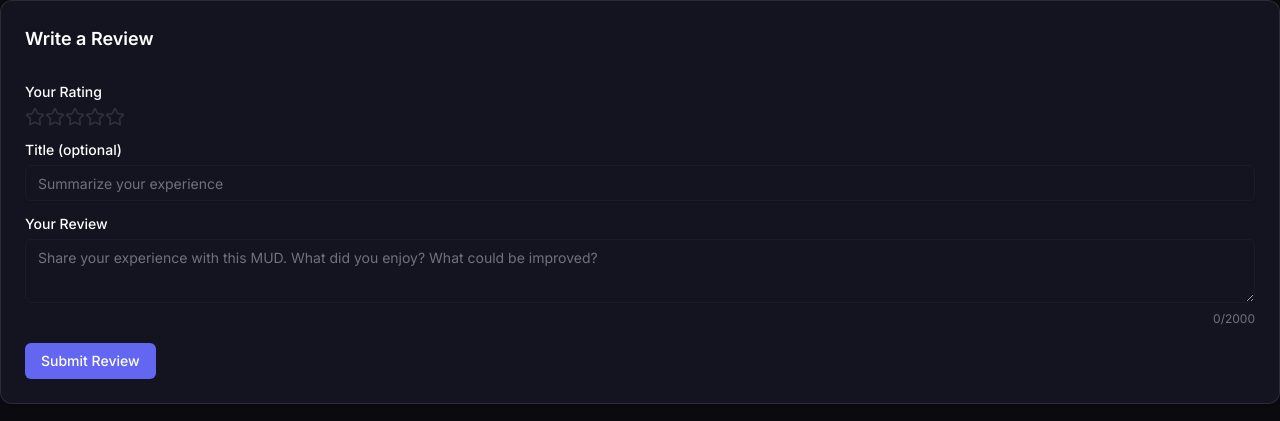
Test case: ReviewForm › shows character count
This screenshot has width=1280, height=421.
In the text box labelled "Your Review": [640, 271] box [25,239,1255,303], type "Test review"
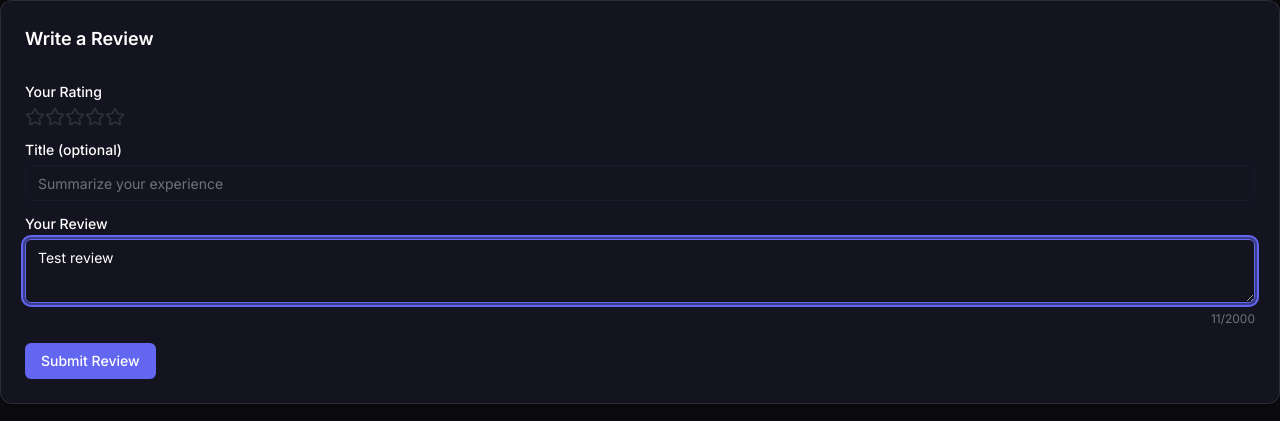
Result: the text "11/2000" is shown at [1211,311,1255,327]
